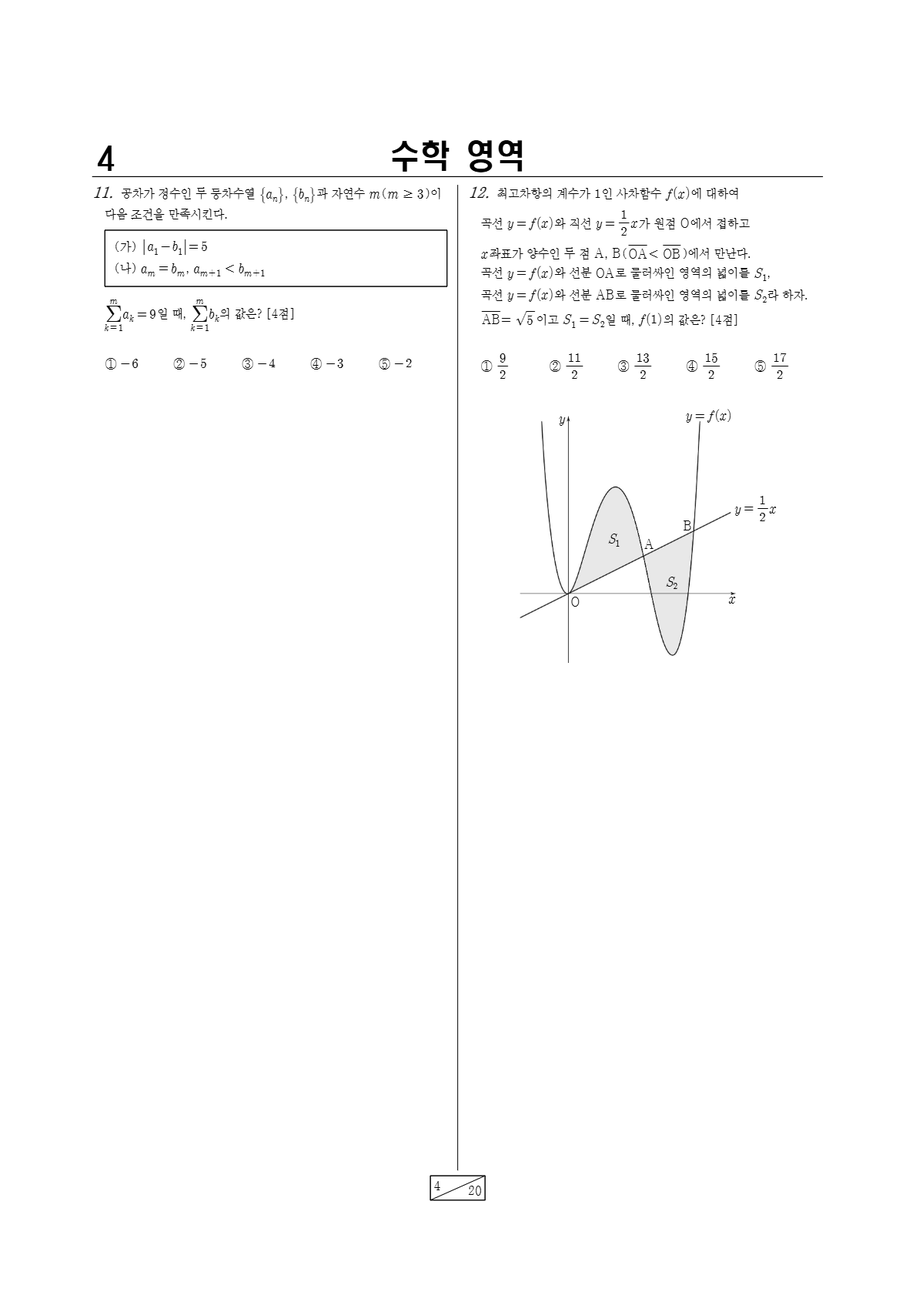opt_1: (104, 355, 116, 370), (480, 359, 492, 372)
opt_2: (173, 356, 185, 370), (549, 360, 560, 372)
opt_3: (617, 359, 629, 373), (241, 356, 252, 370)
opt_4: (309, 356, 323, 370), (686, 359, 698, 373)
opt_5: (754, 359, 766, 373), (379, 356, 389, 370)
